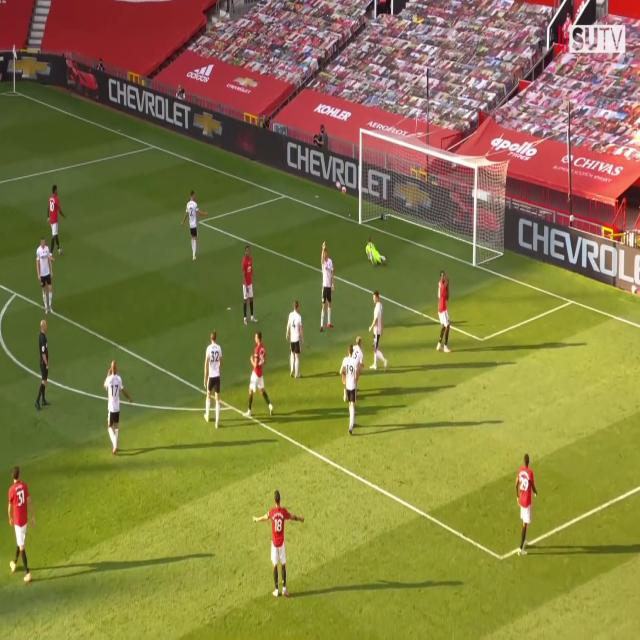GoalKeeper: (366, 239, 386, 265)
TEAM 1: (254, 490, 308, 597), (7, 469, 34, 582), (514, 454, 538, 555), (249, 333, 271, 415), (435, 270, 453, 354), (240, 246, 255, 324), (50, 187, 66, 256)
TEAM 2: (106, 362, 132, 456), (203, 332, 225, 422), (338, 343, 358, 439), (182, 193, 207, 263), (284, 300, 304, 380), (319, 246, 335, 334), (368, 294, 386, 372), (38, 239, 56, 316), (353, 325, 365, 369)
